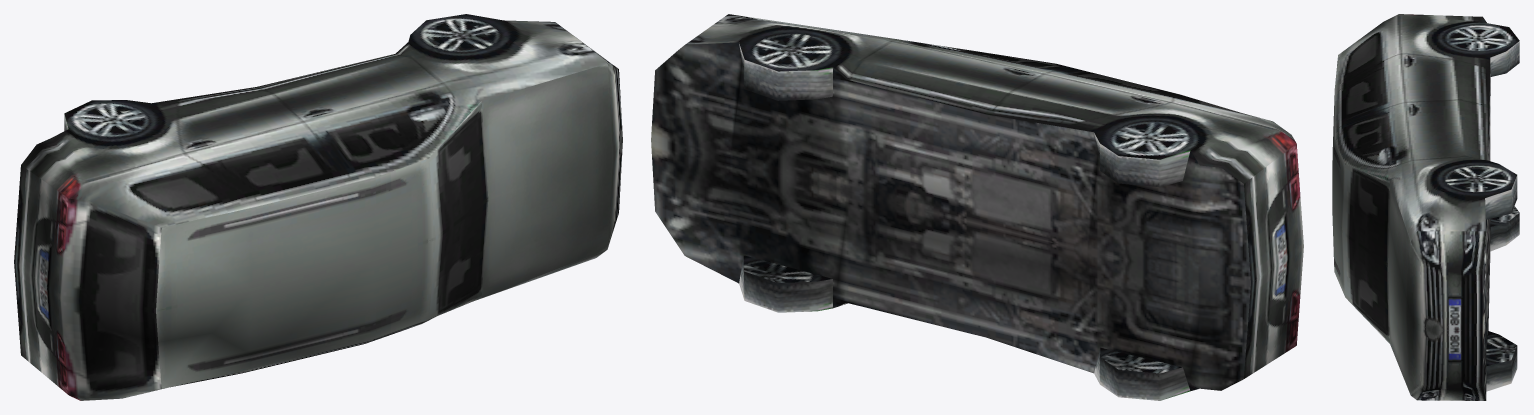
Rendered from ny_harbor_veh_civ_car_a_9_LOD0.obj.
3 renders of one model, left to right at view 1: azimuth 30°, elevation 25°; view 2: azimuth 150°, elevation 25°; view 3: azimuth 270°, elevation 25°, orthographic. The views are drawn at different scales.
Parts seen in each view (by area): view 1: mtl_ac_prs_vehicle_sheet_a; view 2: mtl_ac_prs_vehicle_sheet_a; view 3: mtl_ac_prs_vehicle_sheet_a.
Part boxes in pixels (x1,y1,x2,y2): mtl_ac_prs_vehicle_sheet_a: (14,14,622,400); mtl_ac_prs_vehicle_sheet_a: (651,14,1303,400); mtl_ac_prs_vehicle_sheet_a: (1332,14,1519,400).
Size of the model in its own units: 528 by 203 by 178.
